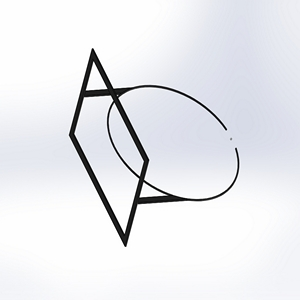circle: (68, 46, 241, 247)
